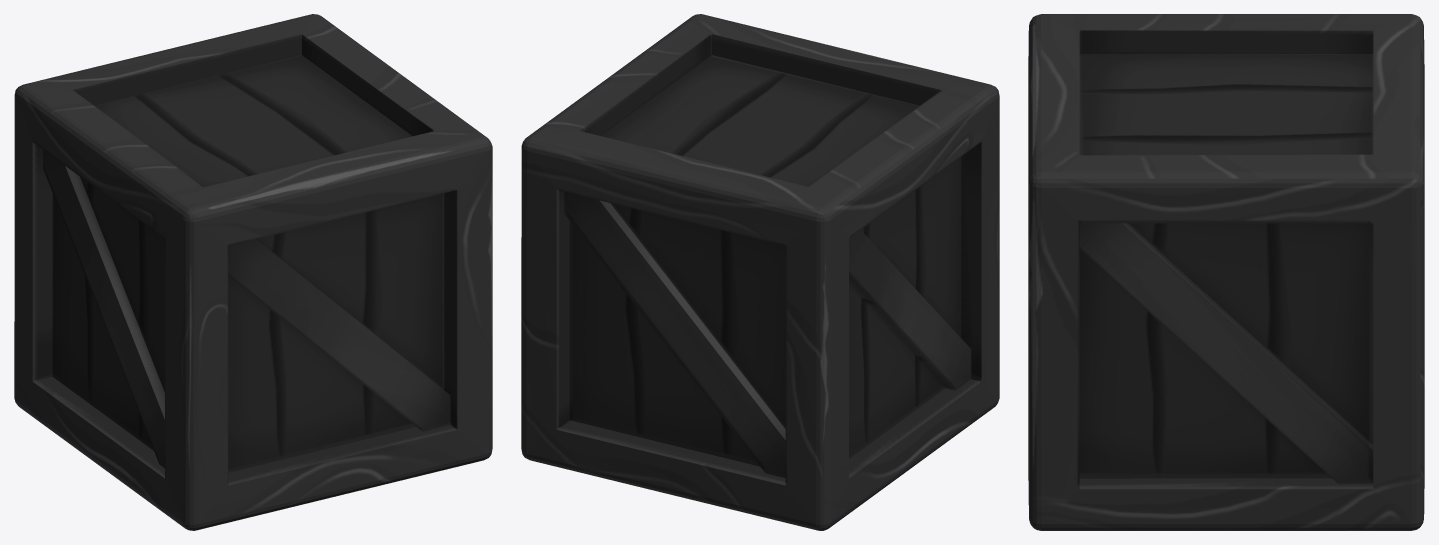
File: kocka crna1.fbx
3 renders of one model, left to right at view 1: azimuth 30°, elevation 25°; view 2: azimuth 150°, elevation 25°; view 3: azimuth 270°, elevation 25°, orthographic. The views are drawn at different scales.
Visible parts, largest first — view 1: box_ram_2.010; view 2: box_ram_2.010; view 3: box_ram_2.010.
Part boxes in pixels (left/top/right/bottom): box_ram_2.010: left=14, top=14, right=492, bottom=530; box_ram_2.010: left=521, top=14, right=999, bottom=530; box_ram_2.010: left=1028, top=14, right=1424, bottom=530.
Bounding box in the file's own units: 194 × 194 × 194.
1 material, 1 textured.
